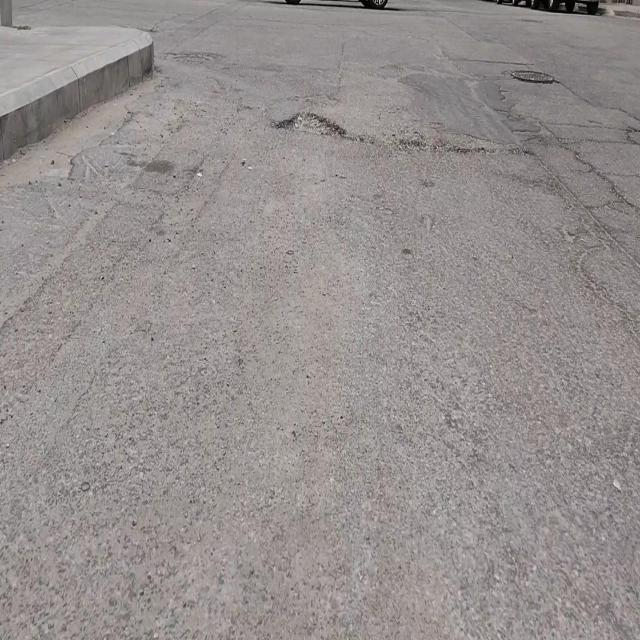Pothole: (273, 108, 346, 140)
